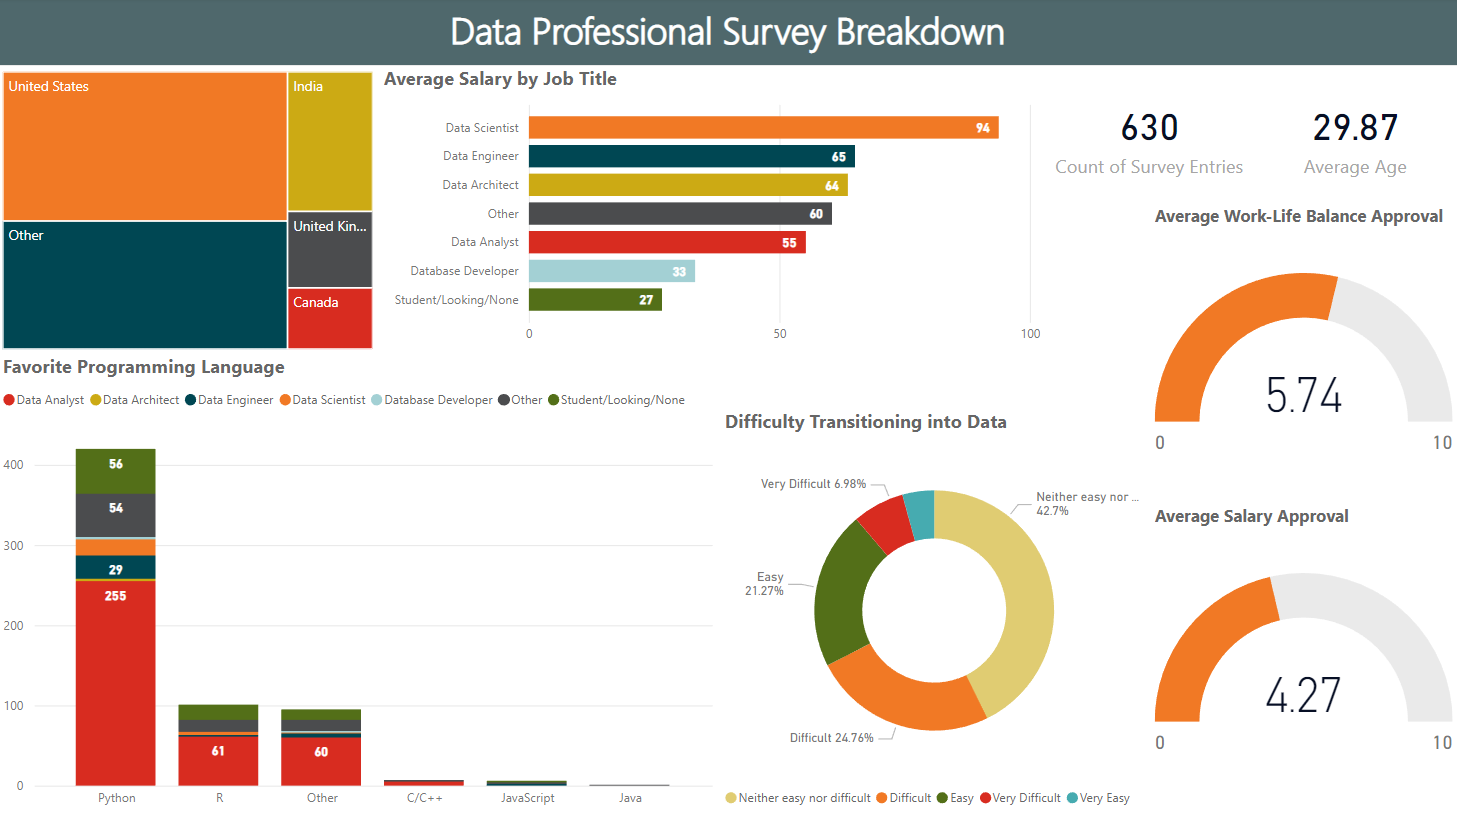

This screenshot's page, from the dashboard's own definition file:
{"tool":"powerbi","page":{"name":"Page 1","canvas":[1280,720],"ordinal":0},"visuals":[{"type":"textbox","box":[0,0,1280,59.3],"z":0},{"type":"card","fields":{"Values":["Count(Data Professional Survey.Unique ID)"]},"box":[918.5,59.2,180.7,121.6],"z":1000},{"type":"card","fields":{"Values":["Avg(Data Professional Survey.Q10 - Current Age)"]},"box":[1099.3,59.2,180.7,121.6],"z":2000},{"type":"barChart","title":"Average Salary by Job Title","fields":{"Category":["Data Professional Survey.Q1 - Which Title Best Fits your Current Role?.1"],"Y":["Avg(Data Professional Survey.Average Salary)"],"Series":["Data Professional Survey.Q1 - Which Title Best Fits your Current Role?.1"]},"box":[334,59.2,584.5,252.6],"z":3000},{"type":"columnChart","title":"Favorite Programming Language","fields":{"Category":["Data Professional Survey.Q5 - Favorite Programming Language.1"],"Y":["CountNonNull(Data Professional Survey.Unique ID)"],"Series":["Data Professional Survey.Q1 - Which Title Best Fits your Current Role?.1"]},"box":[0,311.8,632.1,406.9],"z":4000},{"type":"treemap","fields":{"Group":["Data Professional Survey.Q11 - Which Country do you live in?.1"],"Values":["CountNonNull(Data Professional Survey.Q11 - Which Country do you live in?.1)"]},"box":[0,59.2,334,252.6],"z":5000},{"type":"gauge","title":"Average Salary Approval","fields":{"Y":["Avg(Data Professional Survey.Q6 - How Happy are you in your Current Position with the following? (Salary))"],"MinValue":["Min(Data Professional Survey.Q6 - How Happy are you in your Current Position with the following? (Salary))"],"MaxValue":["Max(Data Professional Survey.Q6 - How Happy are you in your Current Position with the following? (Salary))"]},"box":[1009.4,442.9,270.6,262.1],"z":5001},{"type":"gauge","title":"Average Work-Life Balance Approval","fields":{"Y":["Avg(Data Professional Survey.Q6 - How Happy are you in your Current Position with the following? (Work/Life Balance))"],"MinValue":["Min(Data Professional Survey.Q6 - How Happy are you in your Current Position with the following? (Work/Life Balance))1"],"MaxValue":["Max(Data Professional Survey.Q6 - How Happy are you in your Current Position with the following? (Work/Life Balance))2"]},"box":[1009.4,180.7,270.6,262.1],"z":5002},{"type":"donutChart","title":"Difficulty Transitioning into Data","fields":{"Category":["Data Professional Survey.Q7 - How difficult was it for you to break into Data?"],"Y":["CountNonNull(Data Professional Survey.Q7 - How difficult was it for you to break into Data?)"]},"box":[632.1,360.4,377.3,358.3],"z":5003}]}

Visuals, with their boxes in screenshot pixels (x1, y1, x2, y2), scaled from the page's 1280x720 canvas onto the 1457x818 screenshot:
textbox: [x1=0, y1=0, x2=1456, y2=67]
card - Count(Data Professional Survey.Unique ID): [x1=1046, y1=67, x2=1251, y2=205]
card - Avg(Data Professional Survey.Q10 - Current Age): [x1=1251, y1=67, x2=1456, y2=205]
"Average Salary by Job Title" barChart: [x1=380, y1=67, x2=1046, y2=354]
"Favorite Programming Language" columnChart: [x1=0, y1=354, x2=720, y2=817]
treemap - Data Professional Survey.Q11 - Which Country do you live in?.1 x CountNonNull(Data Professional Survey.Q11 - Which Country do you live in?.1): [x1=0, y1=67, x2=380, y2=354]
"Average Salary Approval" gauge: [x1=1149, y1=503, x2=1456, y2=801]
"Average Work-Life Balance Approval" gauge: [x1=1149, y1=205, x2=1456, y2=503]
"Difficulty Transitioning into Data" donutChart: [x1=720, y1=409, x2=1149, y2=817]
